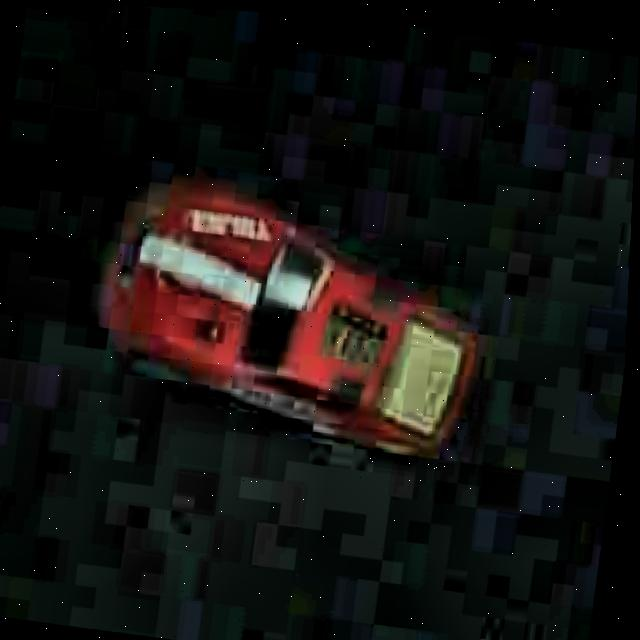car: (62, 152, 511, 474)
